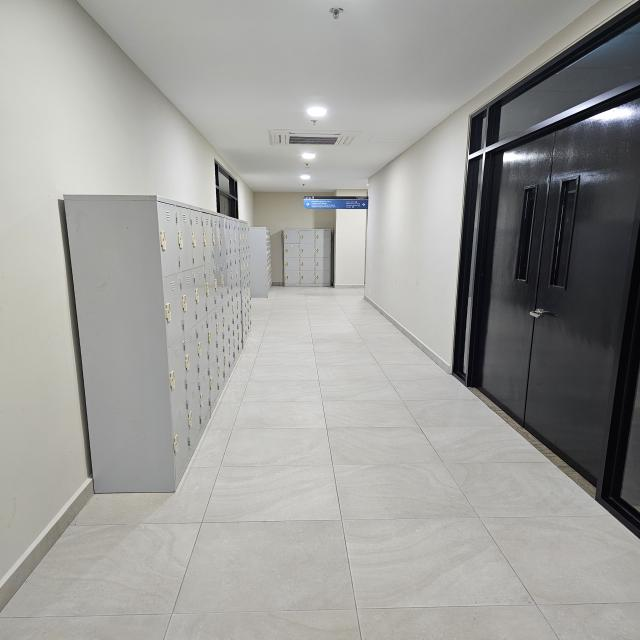door: (478, 96, 640, 440)
footpath: (212, 409, 539, 640)
obstacle: (58, 191, 256, 495), (285, 227, 338, 289)
